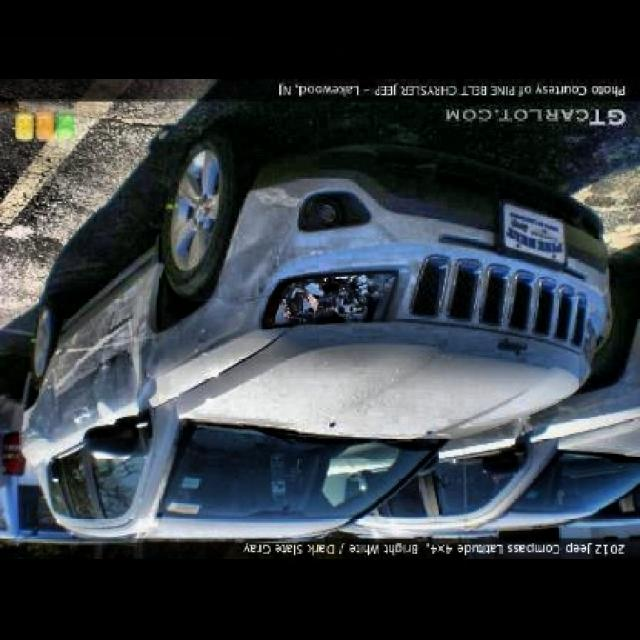silver: (19, 133, 609, 539)
